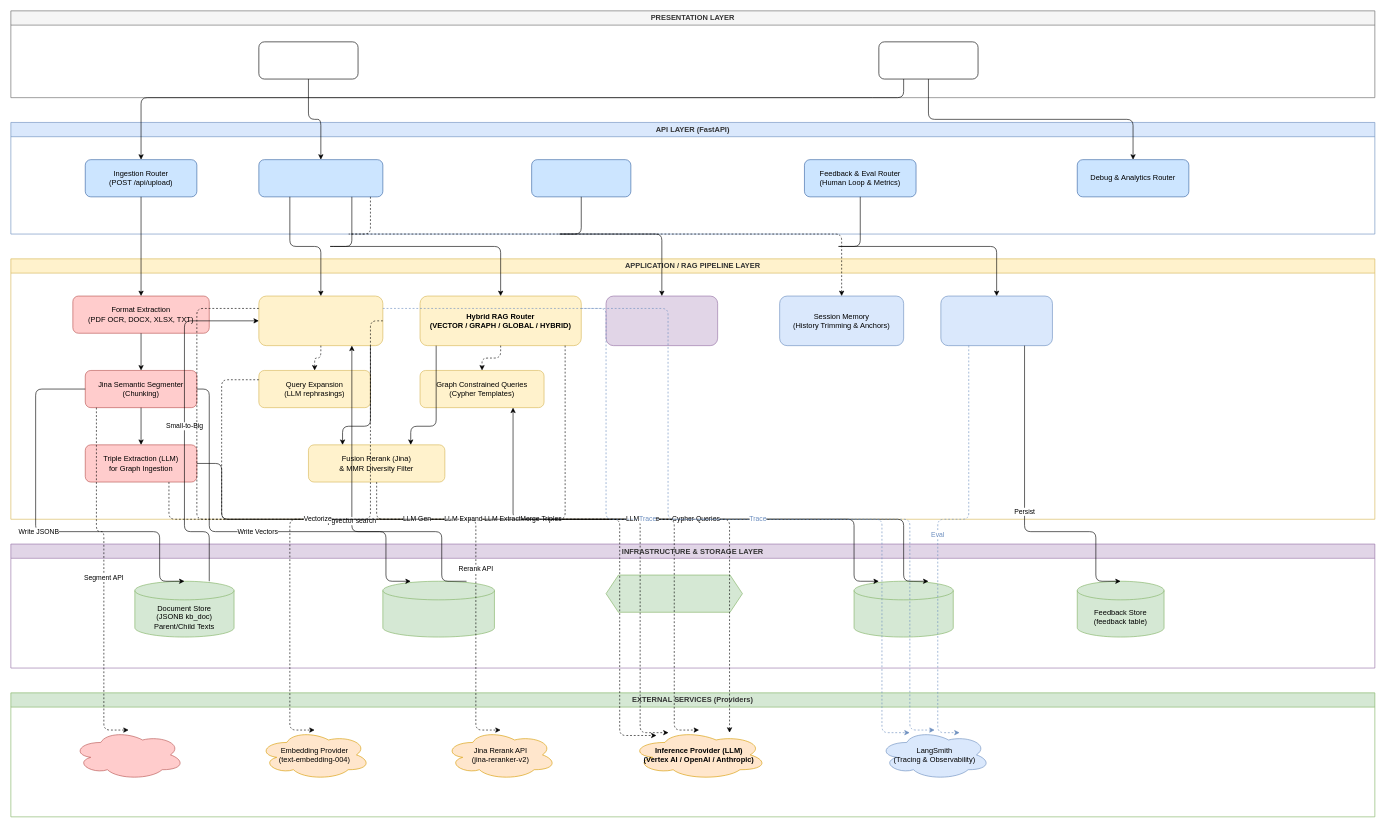
Some shapes in this 1386 by 828 pixel diagram are drawn without their labels. The centre of each missing label's shape, as x and y in pixels:
"Chat / Session Router (SSE, Multi-turn, Multimodal)" goes at (x=320, y=178).
"Customer Portal (/demo, portal.html)" goes at (x=308, y=60).
"Engineer Console (/, index.html)" goes at (x=928, y=60).
"Feedback Loop & Recall Metrics (RAGAS)" goes at (x=996, y=320).
"Graph Store (Apache AGE / kg_triple)" goes at (x=903, y=609).
"Jina Segment API (segment.jina.ai)" goes at (x=128, y=754).
"PostgreSQL Connection Pool" goes at (x=673, y=593).
"RAG Core (LangGraph) Vector Path" goes at (x=320, y=320).
"Vector Store (pgvector kb_embedding)" goes at (x=438, y=609).
"What-If Pipeline (Deterministic Math Tools)" goes at (x=661, y=320).
"What-If Router (Deterministic Tools)" goes at (x=581, y=178).
